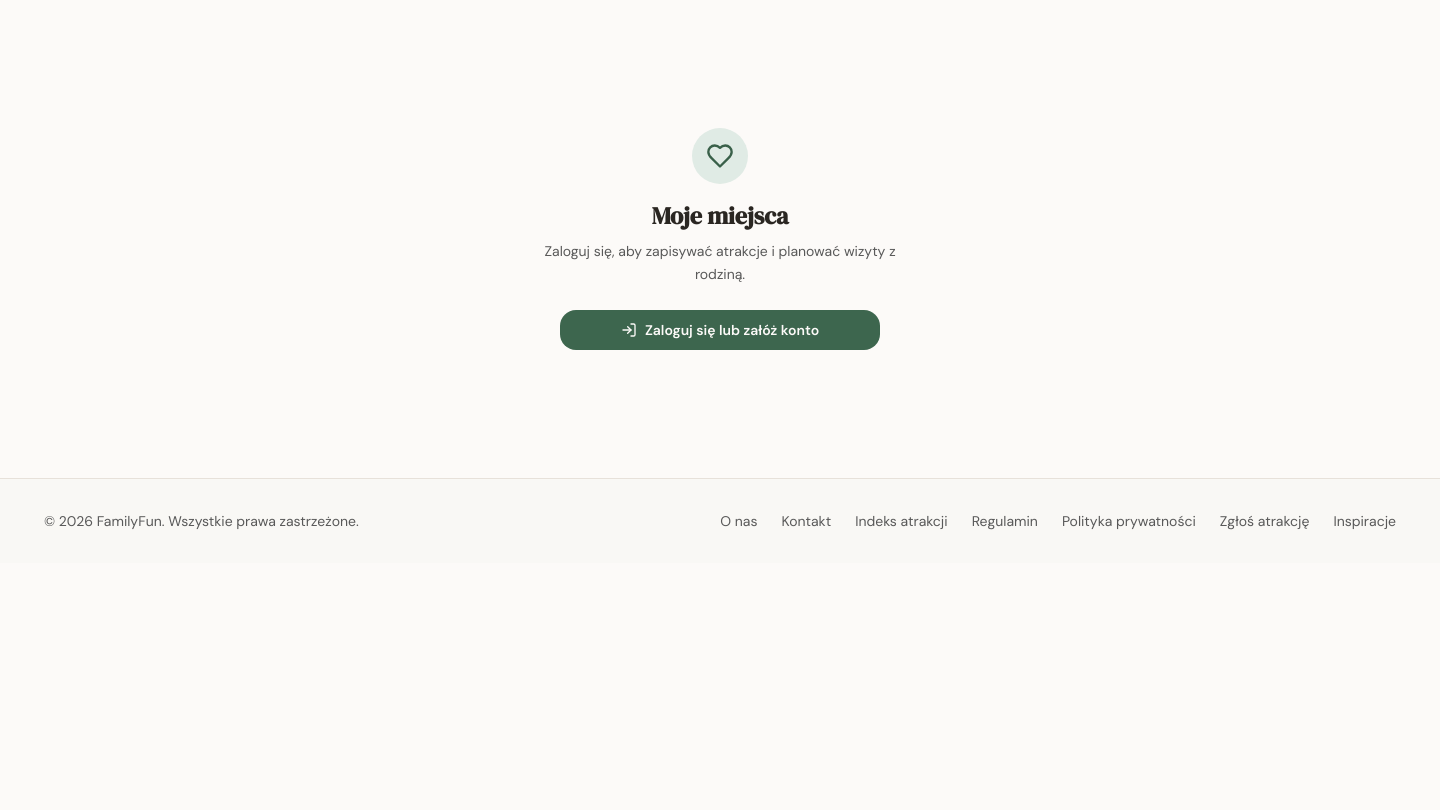
AF-10-015 — jedna nazwa listy na /my-places › gość: h1 i tytuł karty = „Moje miejsca”, bez „zapisane”/„Twoje ulubione miejsca”
Expected: the heading reads "Moje miejsca", [652,199,788,232]
Click the button "Zaloguj się lub załóż konto": coordinates (720, 330) [560,310,880,350]
(page scrolled)
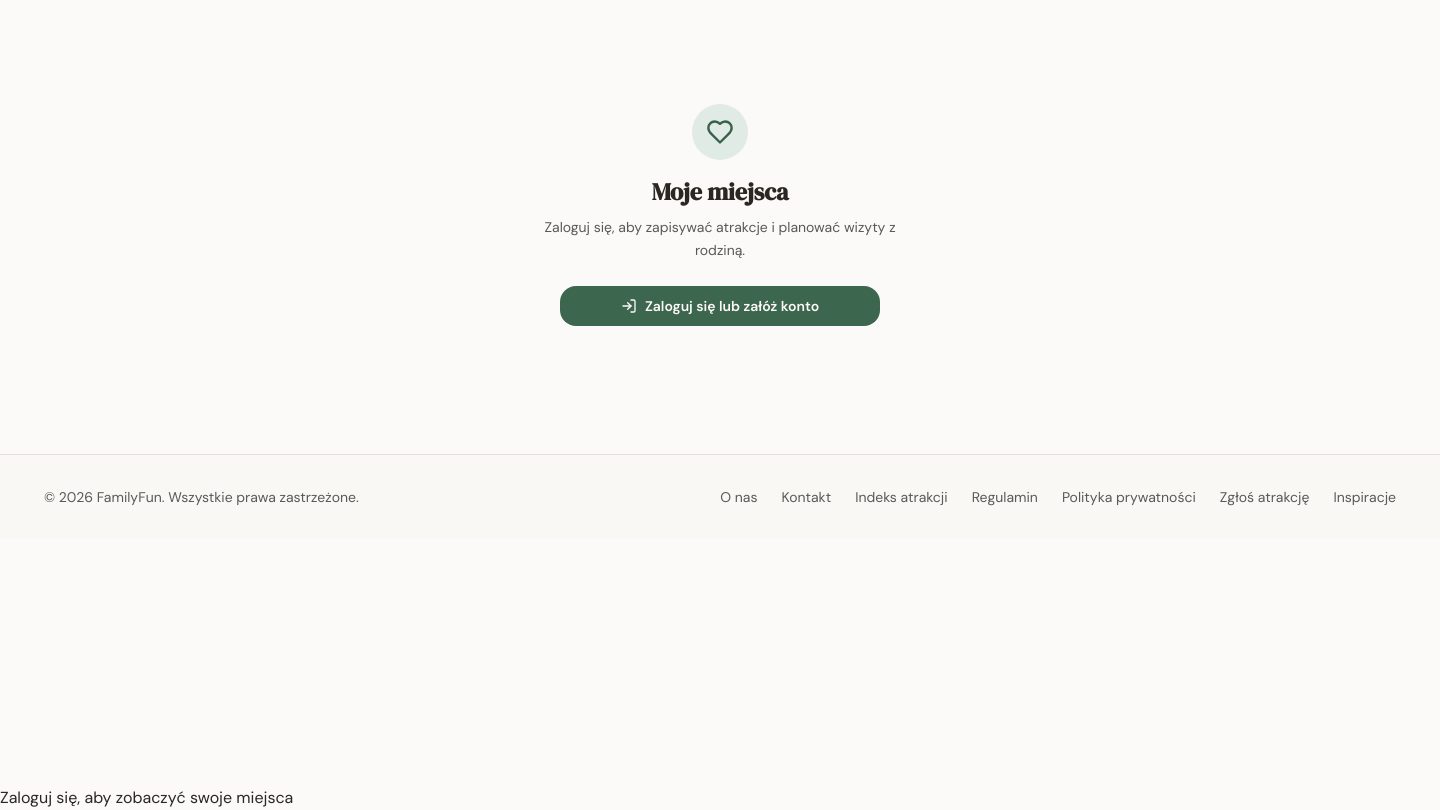
Expected: the dialog reads "Zaloguj się, aby zobaczyć swoje miejsca", [0,787,293,808]
